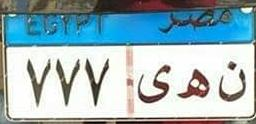7: (53, 58, 81, 108), (84, 56, 111, 107), (25, 58, 52, 108)
haa: (177, 65, 211, 105)
noon: (216, 60, 247, 105)
yaa: (137, 64, 173, 105)
